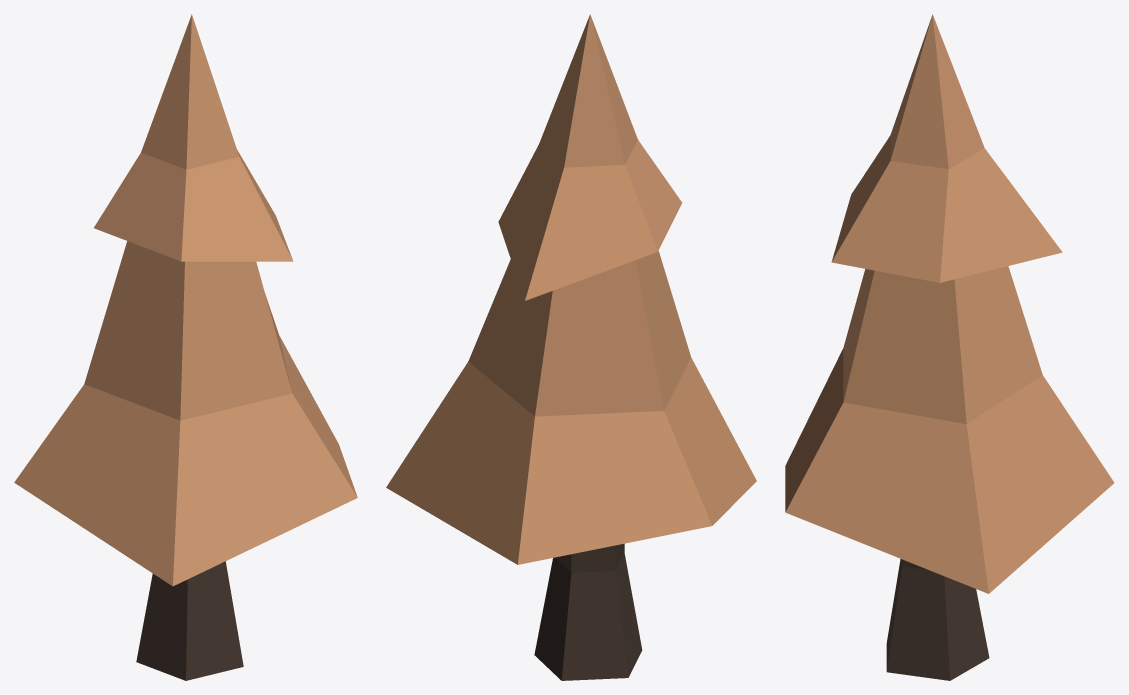
Rendered from orange_conetree2.fbx.
3 views of the same model, side by side, from view 1: azimuth 30°, elevation 25°; view 2: azimuth 150°, elevation 25°; view 3: azimuth 270°, elevation 25° (orthographic).
Visible parts, largest first — view 1: orange_conetree2; view 2: orange_conetree2; view 3: orange_conetree2.
Part boxes in pixels (x1,y1,x2,y2): orange_conetree2: (14, 14, 357, 680); orange_conetree2: (386, 14, 756, 680); orange_conetree2: (785, 14, 1114, 680).
Size of the model in its own units: 447 by 845 by 392.
